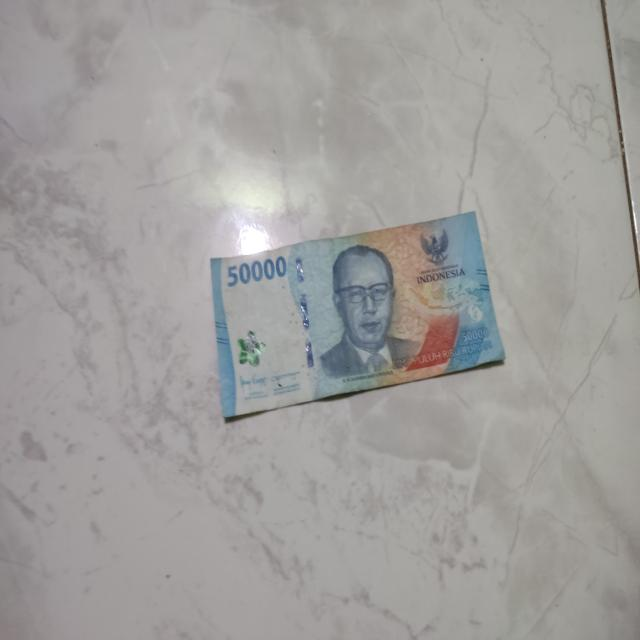lima puluh ribu rupiah: (206, 205, 510, 429)
